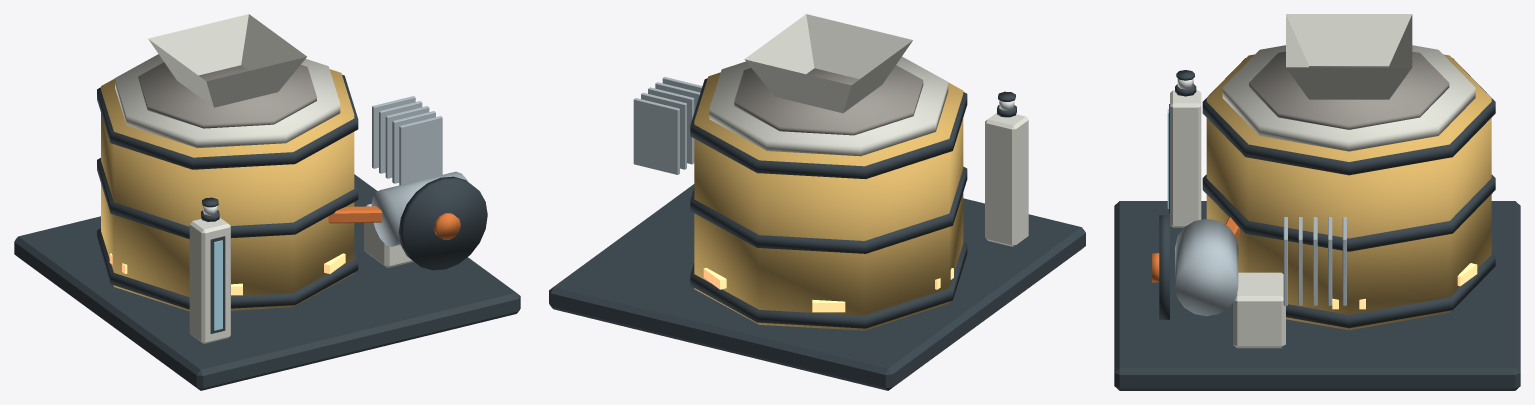
File: thermal.glb
The picture shows the model from 3 angles, left to right: view 1: azimuth 30°, elevation 25°; view 2: azimuth 150°, elevation 25°; view 3: azimuth 270°, elevation 25°; orthographic projection. The views are drawn at different scales.
Parts seen in each view (by area): view 1: thermal_dark, thermal_gold, thermal_ivory, thermal_metal, thermal_regolith, thermal_orange, Level.001, thermal_ember; view 2: thermal_dark, thermal_gold, thermal_ivory, thermal_regolith, thermal_metal, thermal_ember; view 3: thermal_dark, thermal_gold, thermal_ivory, thermal_metal, thermal_regolith, thermal_ember, thermal_orange.
Boxes of the visible parts, box(x1,y1,x2,y2) form: thermal_dark: box(14, 74, 520, 390); thermal_gold: box(101, 69, 354, 311); thermal_ivory: box(115, 14, 413, 343); thermal_metal: box(371, 96, 468, 246); thermal_regolith: box(138, 62, 316, 128); thermal_orange: box(328, 206, 460, 239); Level.001: box(214, 240, 222, 330); thermal_ember: box(109, 253, 345, 295); thermal_dark: box(549, 78, 1085, 390); thermal_gold: box(694, 72, 963, 330); thermal_ivory: box(709, 14, 1028, 246); thermal_regolith: box(734, 65, 923, 135); thermal_metal: box(633, 77, 702, 174); thermal_ember: box(703, 267, 953, 312); thermal_dark: box(1114, 58, 1520, 390); thermal_gold: box(1206, 54, 1491, 330); thermal_ivory: box(1170, 14, 1475, 348); thermal_metal: box(1175, 217, 1346, 316); thermal_regolith: box(1249, 51, 1449, 129); thermal_ember: box(1332, 263, 1477, 309); thermal_orange: box(1152, 217, 1239, 282).
Size of the model in its own units: 3.85 by 2.65 by 3.85.
